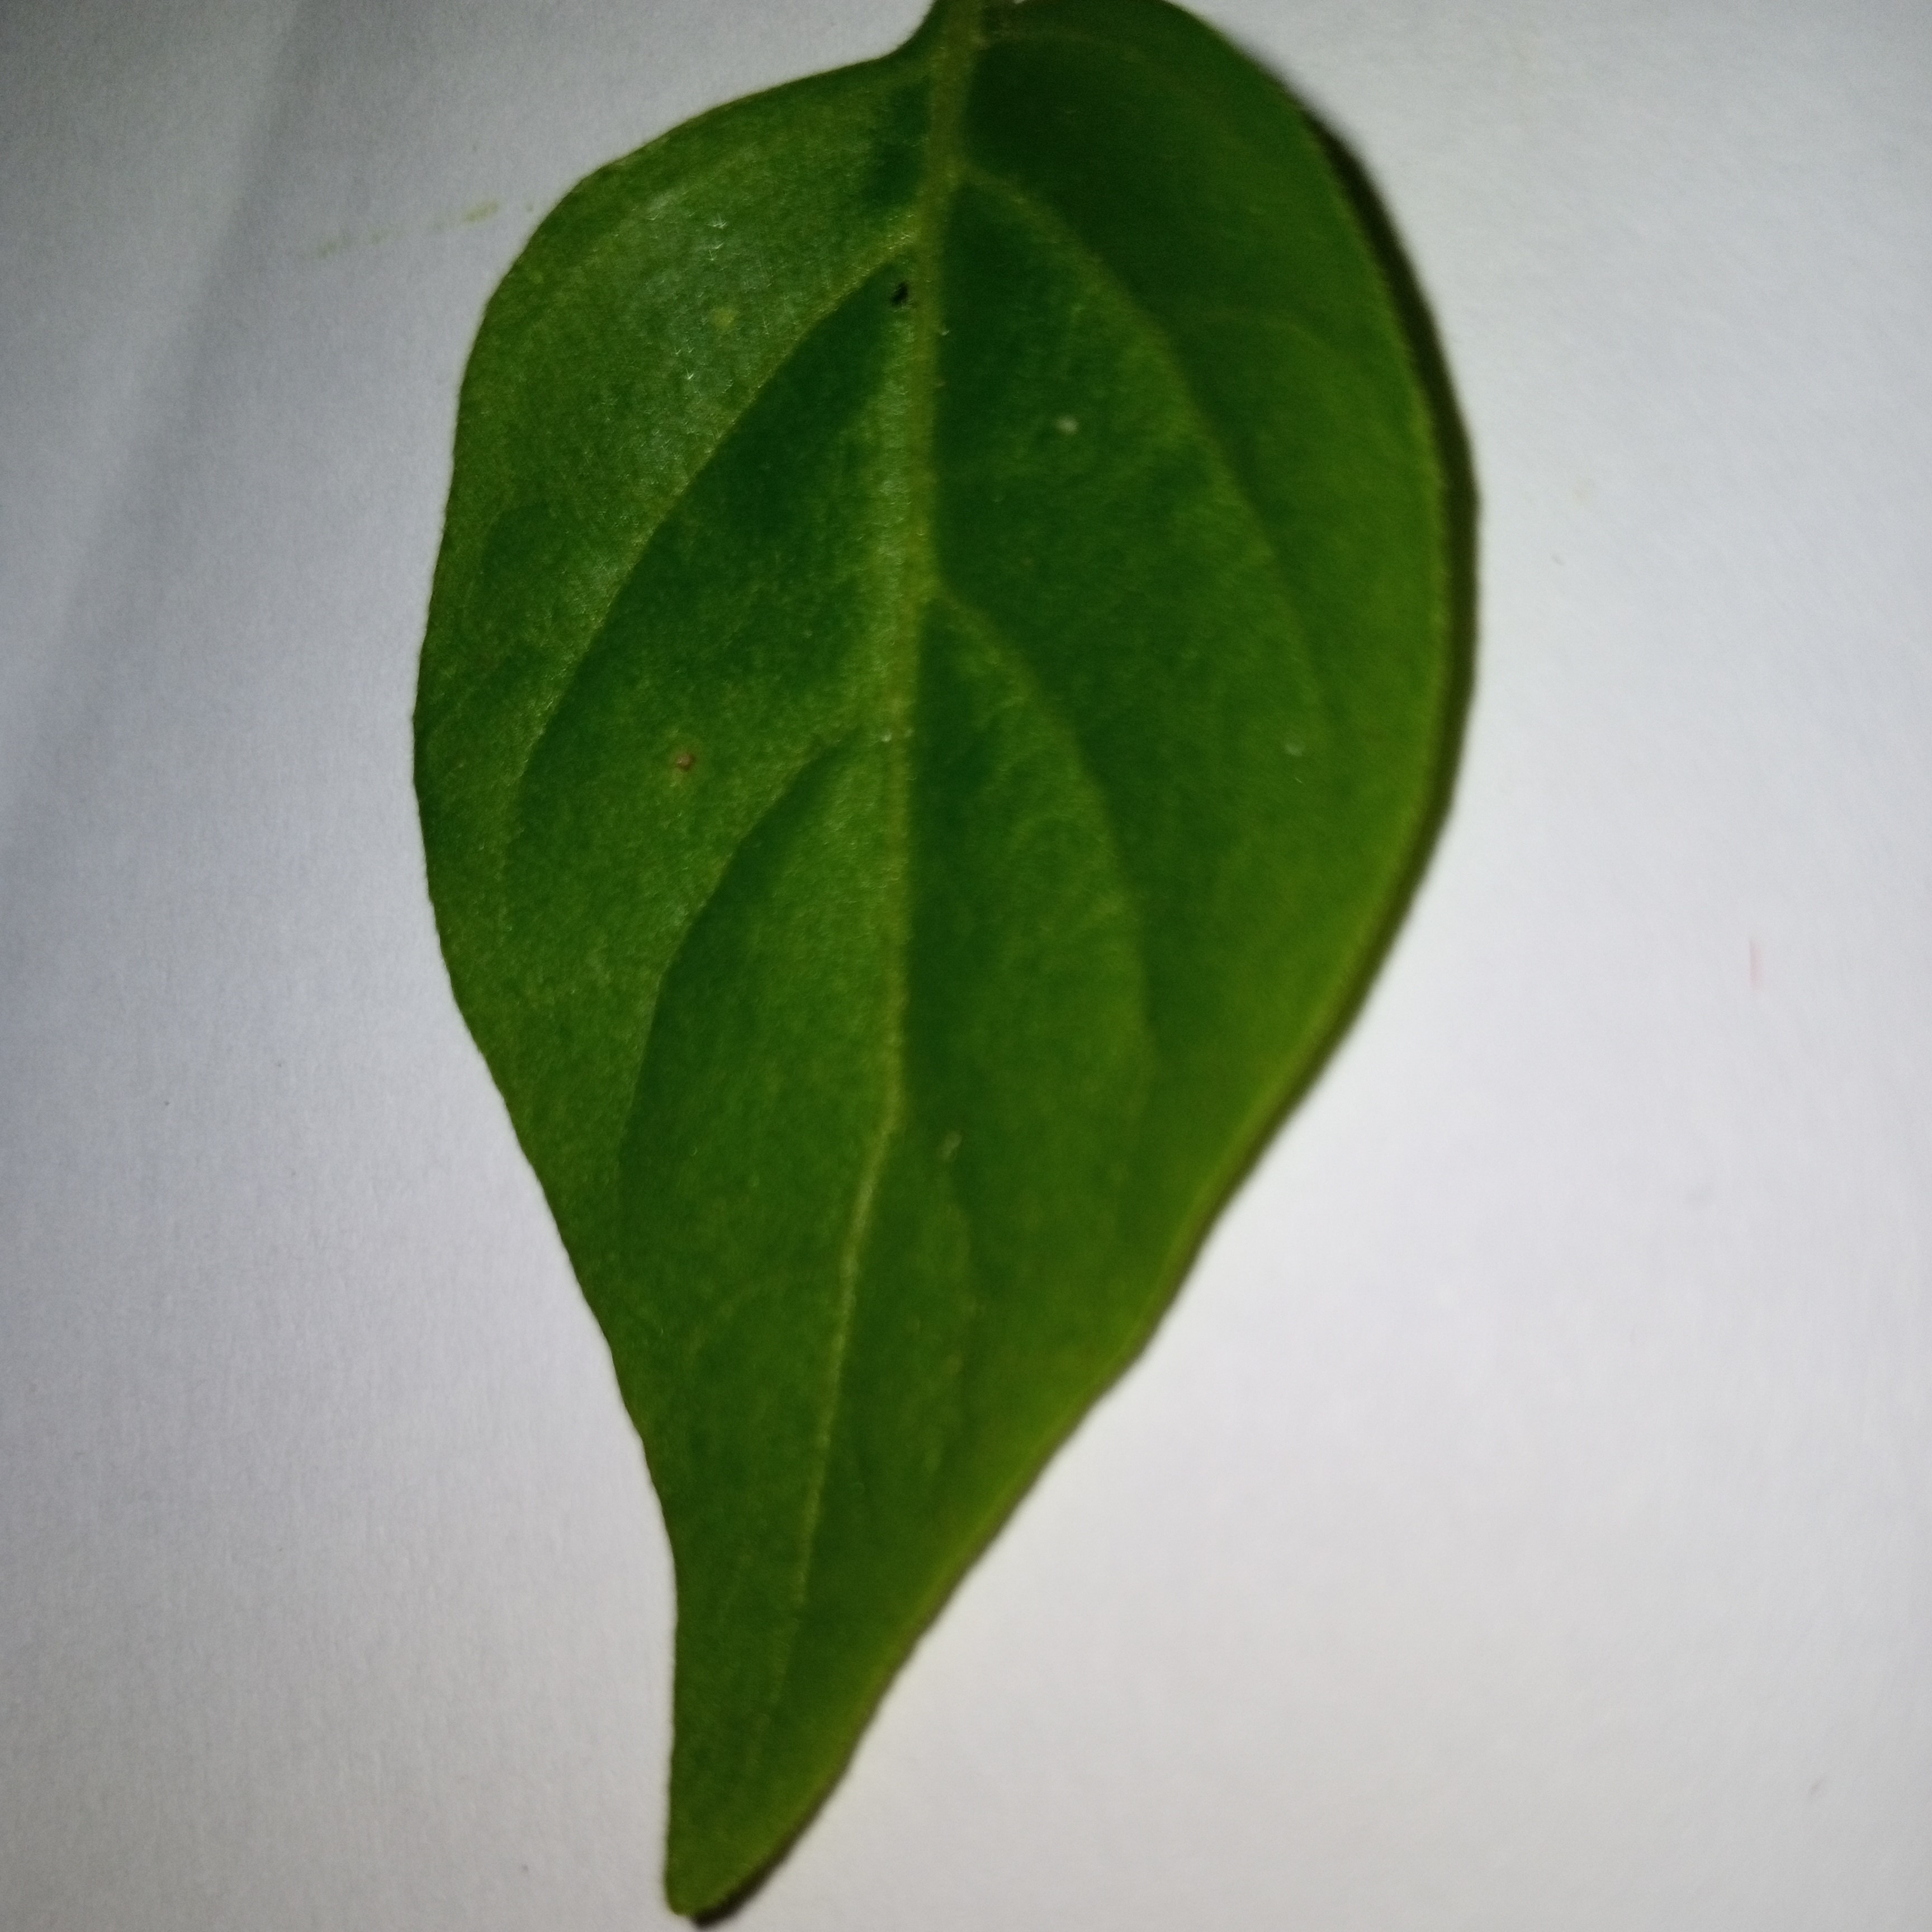Leaf: (295, 5, 1573, 1932)
